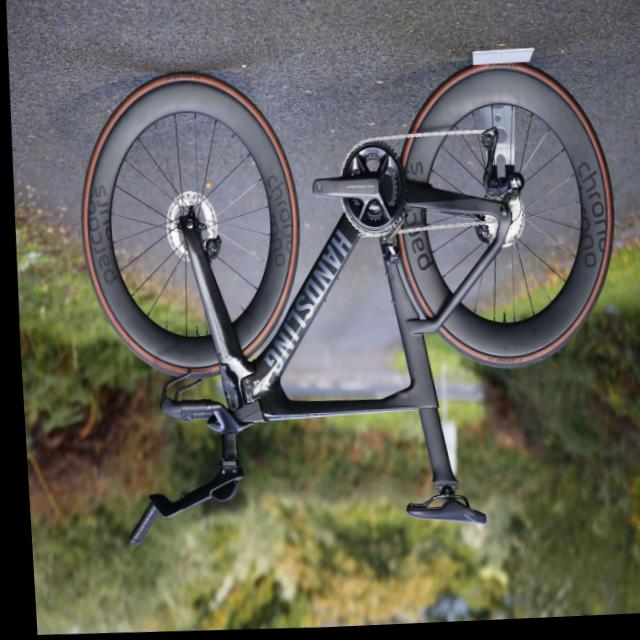TT-bike: (64, 56, 630, 558)
